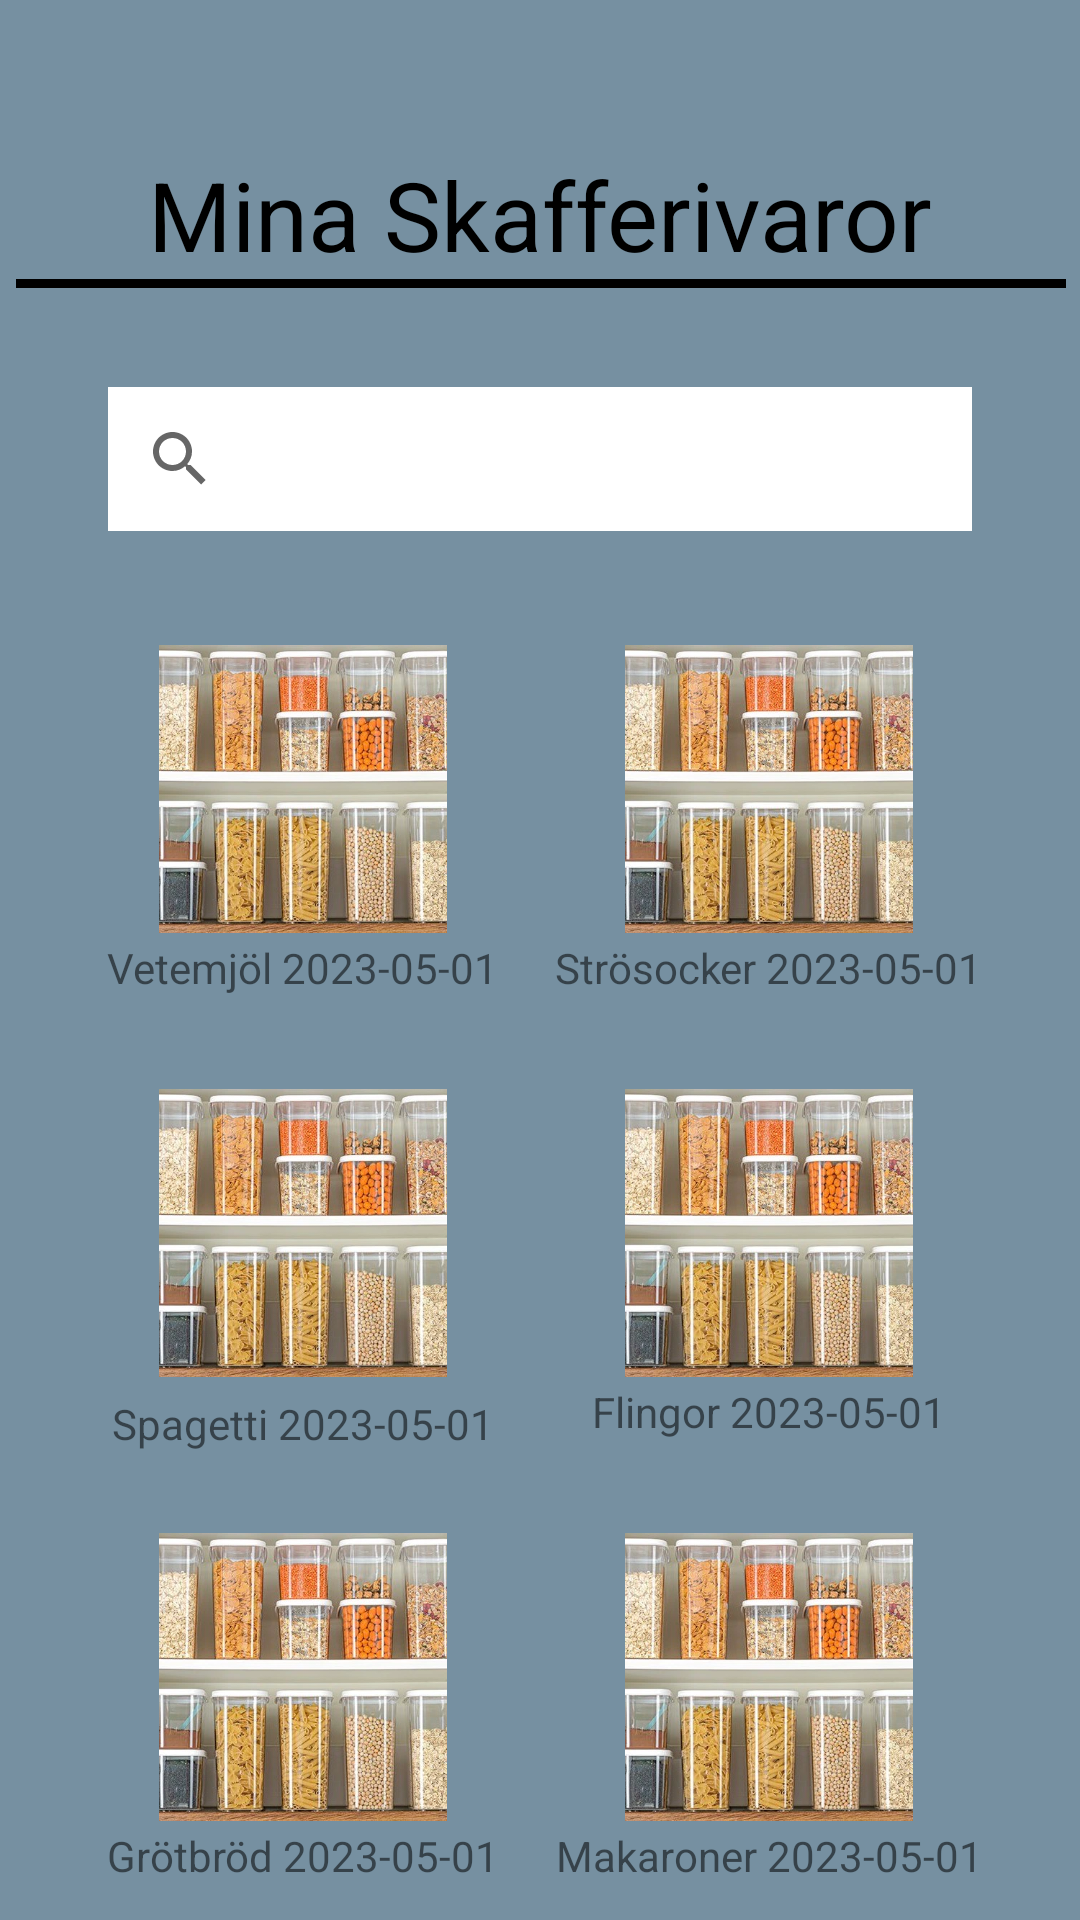

Icons on this 1080w x 1920h Android screen, each with the point to tap as [x,y]:
torrvaror: [303,789], [769,789], [303,1233], [769,1233], [303,1677], [769,1677]
